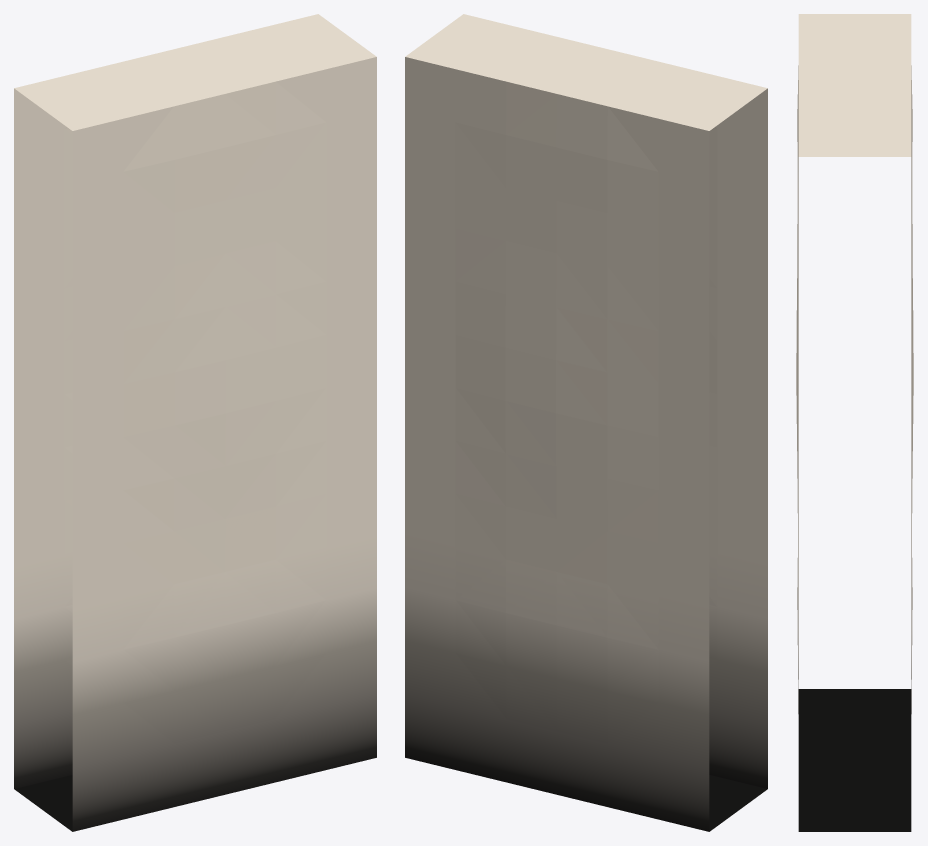
The model's file is SM_VKI_Test_Smoke.fbx.
The picture shows the model from 3 angles, left to right: view 1: azimuth 30°, elevation 25°; view 2: azimuth 150°, elevation 25°; view 3: azimuth 270°, elevation 25°; orthographic projection. The views are drawn at different scales.
Parts seen in each view (by area): view 1: SM_VKI_Test_Smoke.001; view 2: SM_VKI_Test_Smoke.001; view 3: SM_VKI_Test_Smoke.001.
Boxes of the visible parts, bbox=[...] form: SM_VKI_Test_Smoke.001: bbox=[14, 14, 376, 831]; SM_VKI_Test_Smoke.001: bbox=[405, 14, 767, 831]; SM_VKI_Test_Smoke.001: bbox=[796, 14, 913, 831].
Bounding box in the file's own units: 1.5 × 3.3 × 0.5188.
